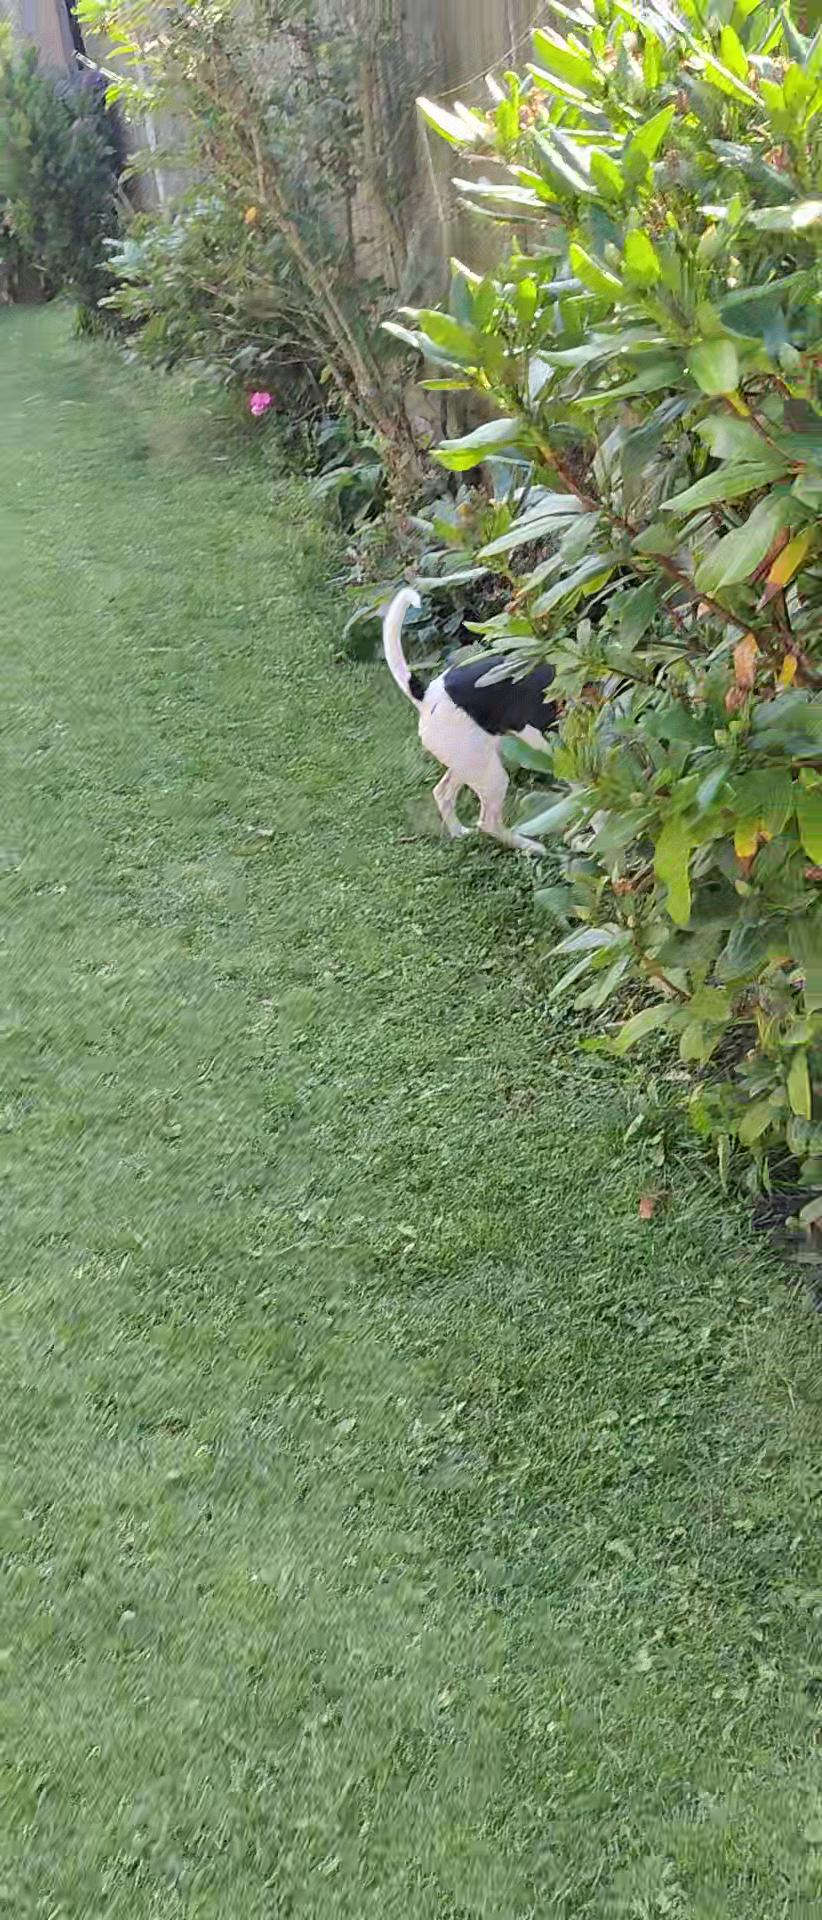Dog: (376, 576, 626, 866)
